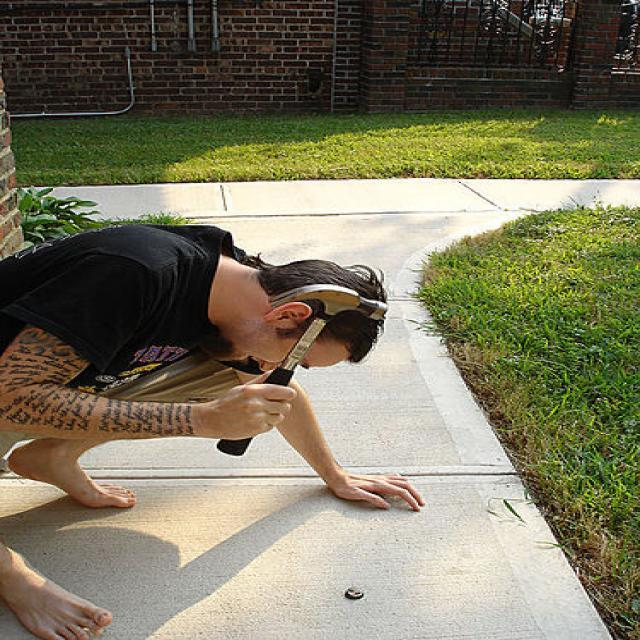hammer: (205, 280, 396, 458)
